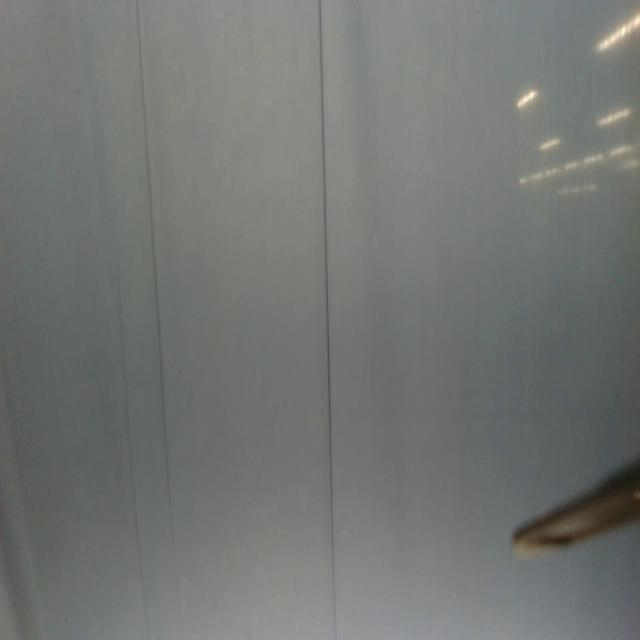crease: (134, 0, 180, 556), (112, 227, 152, 640), (316, 0, 340, 639)
